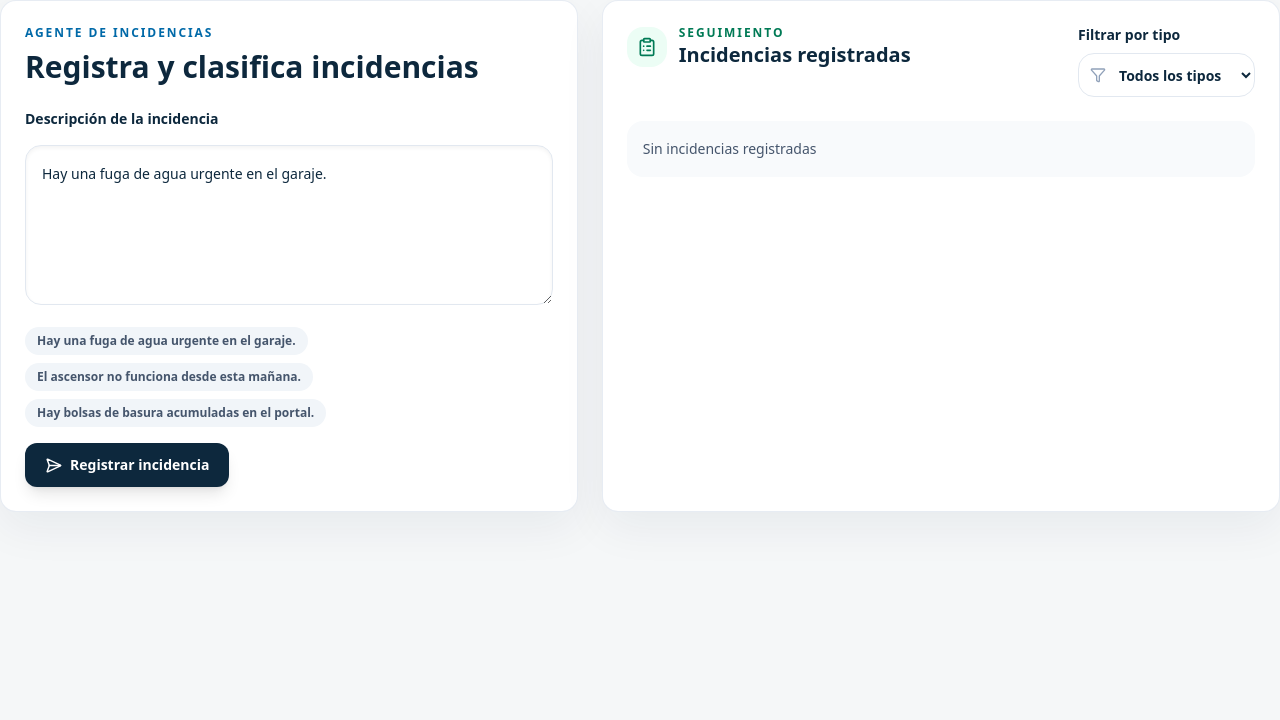
Test: IncidentsPanel › muestra el proveedor OpenAI al crear una incidencia con IA
The width and height of the screenshot is (1280, 720).
Expected: the text "Sin incidencias registradas" is shown, [627, 121, 1255, 177]
Replace the text in the text box labelled "Descripción de la incidencia" with "El ascensor no funciona desde esta mañana." at x=289, y=225, box [25, 145, 553, 305]
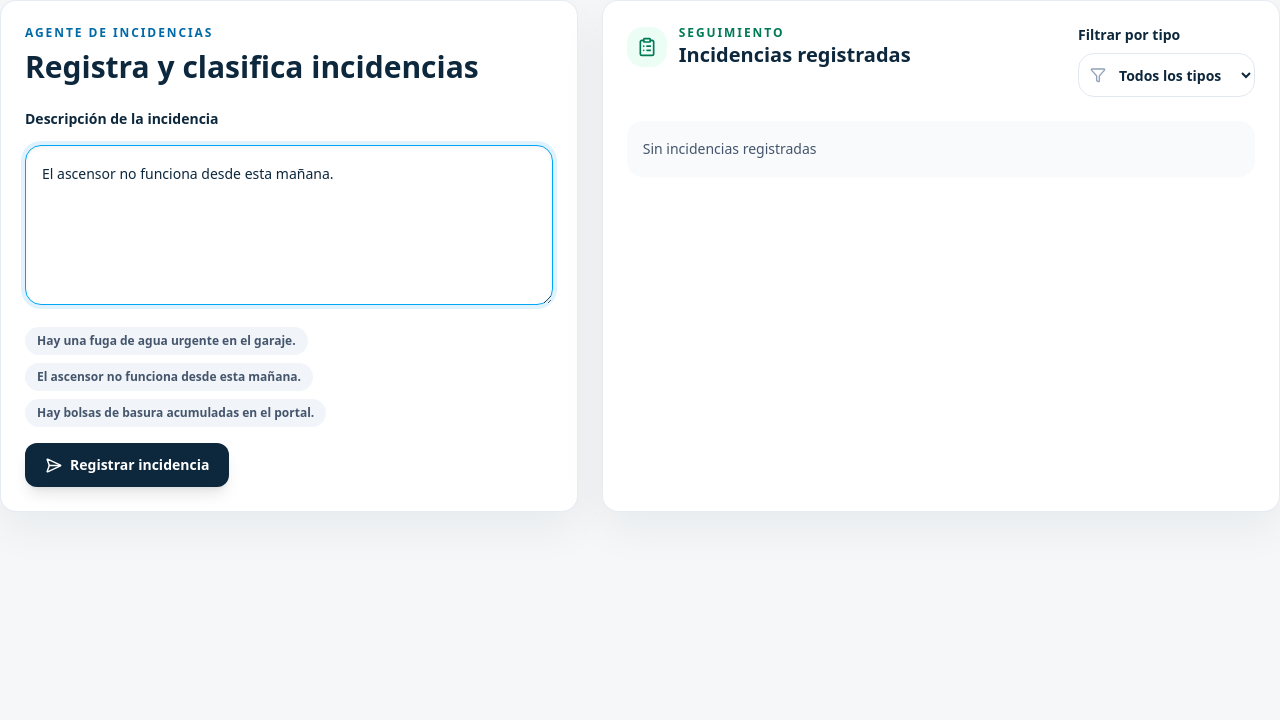
Click the button "Registrar incidencia" at x=127, y=465, box [25, 443, 229, 487]
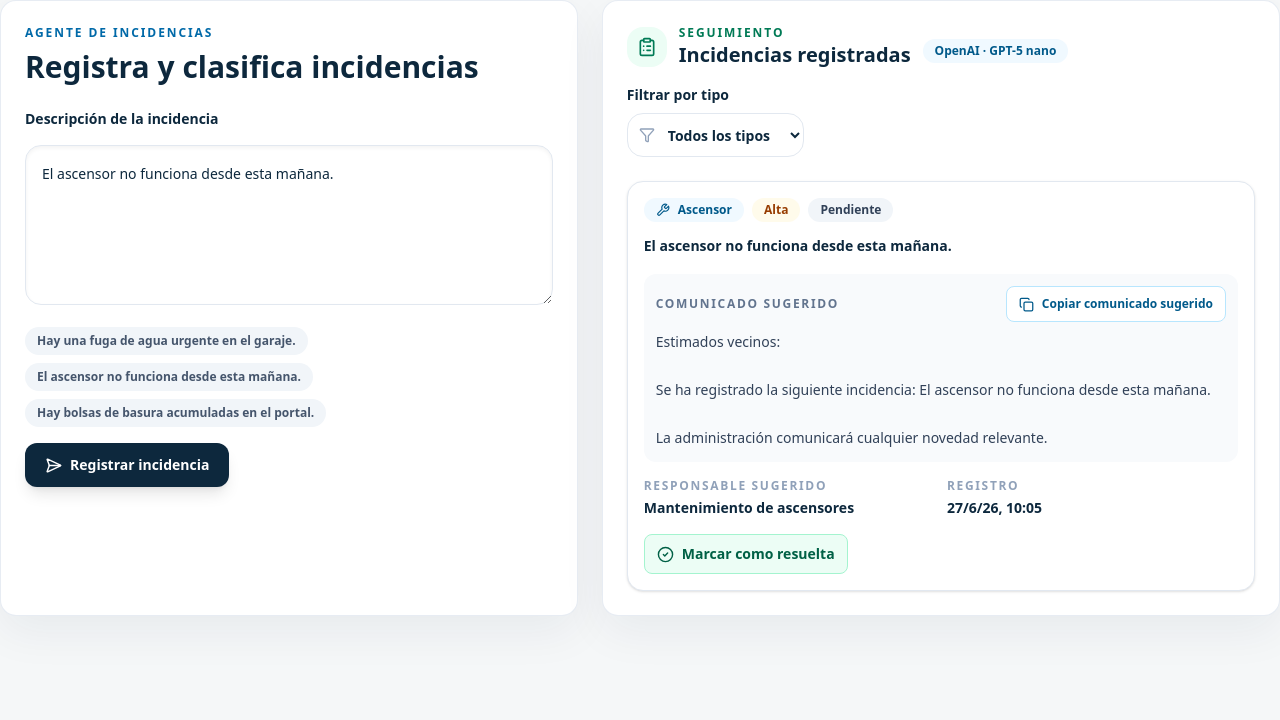
Now the text "OpenAI · GPT-5 nano" is shown, box [923, 39, 1068, 63]
